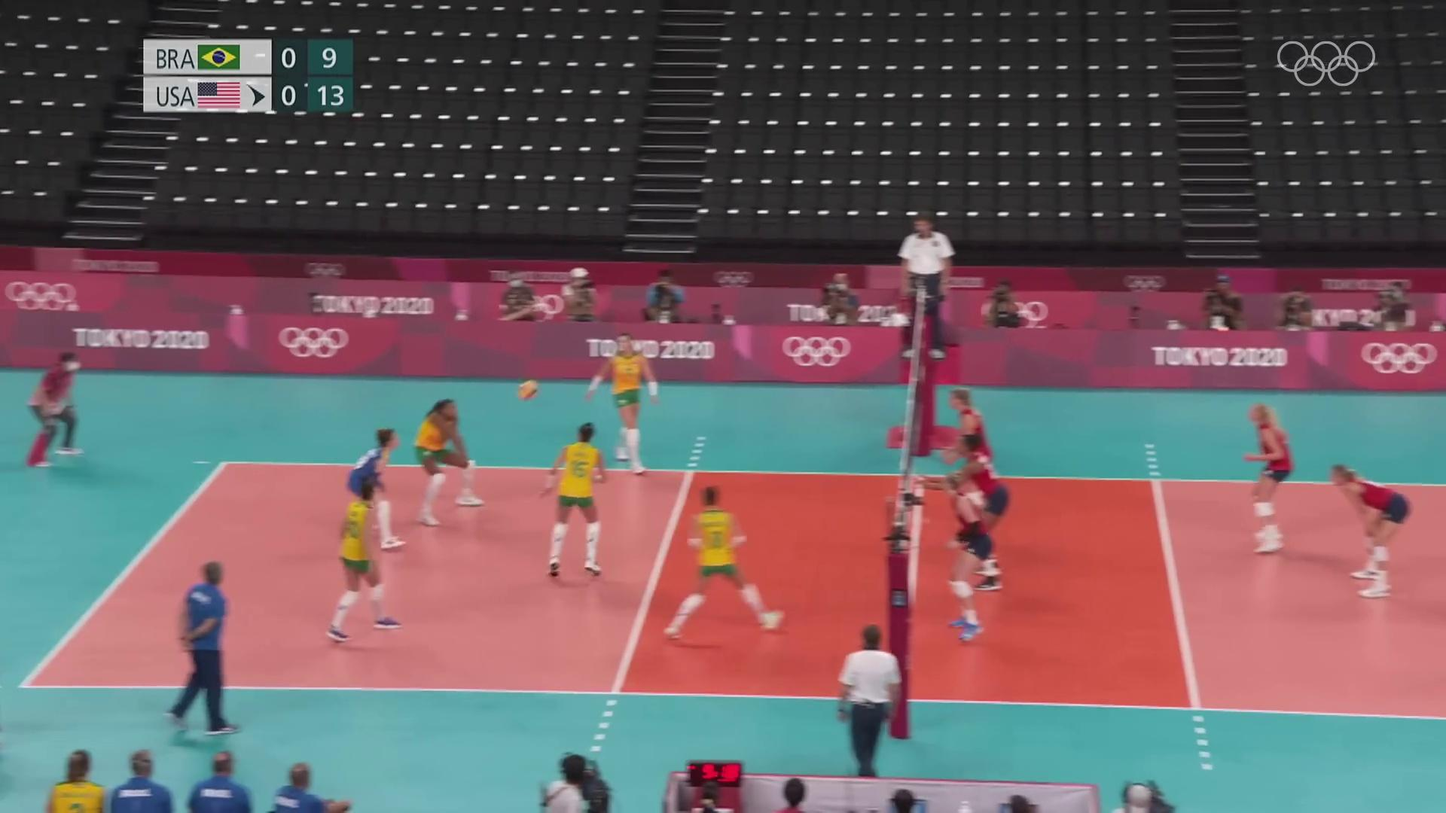player: (661, 488, 788, 642), (320, 486, 403, 646), (1330, 462, 1413, 602), (939, 437, 1009, 592), (590, 331, 661, 477), (542, 423, 606, 580), (938, 476, 994, 643), (414, 399, 486, 525), (1239, 402, 1298, 553), (942, 384, 993, 548), (344, 429, 405, 557)
refree: (837, 626, 903, 778), (899, 215, 953, 357), (27, 353, 90, 469)
